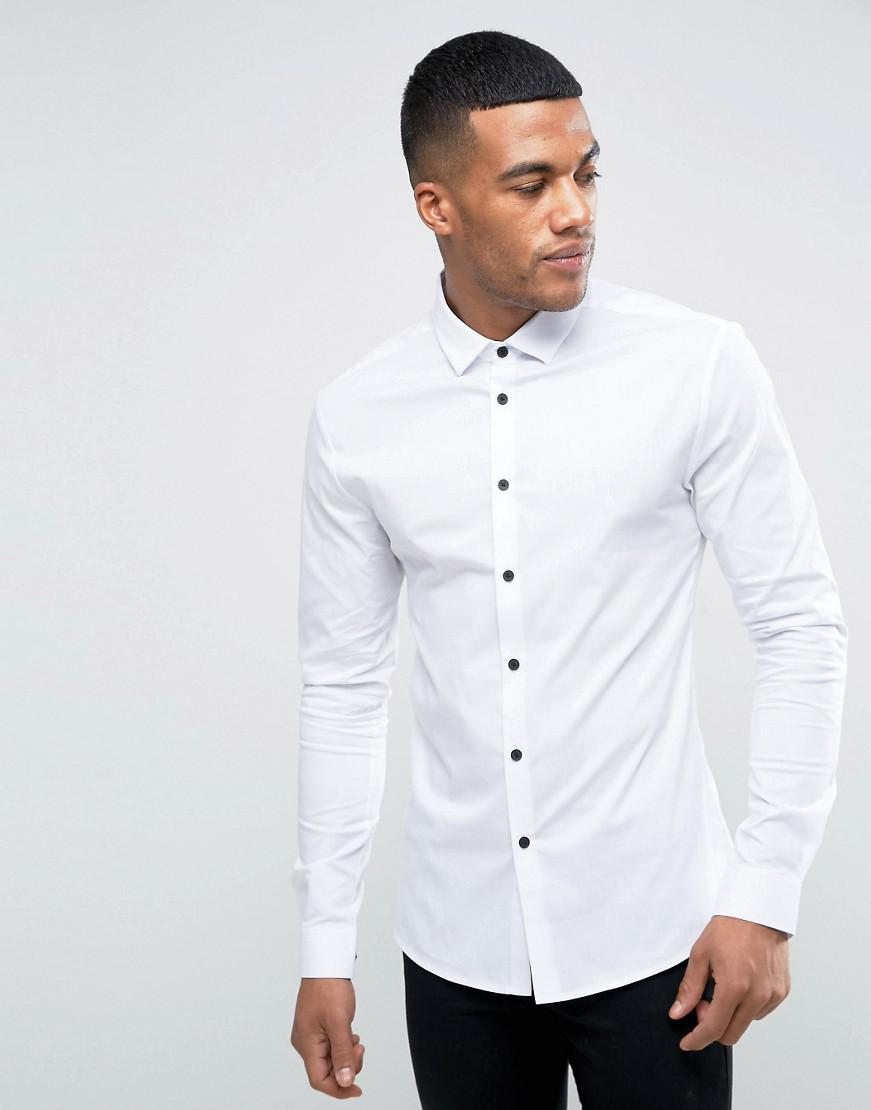teeshirt: (230, 259, 856, 1012)
